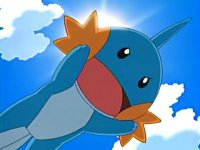mudkip: (1, 13, 193, 150)
